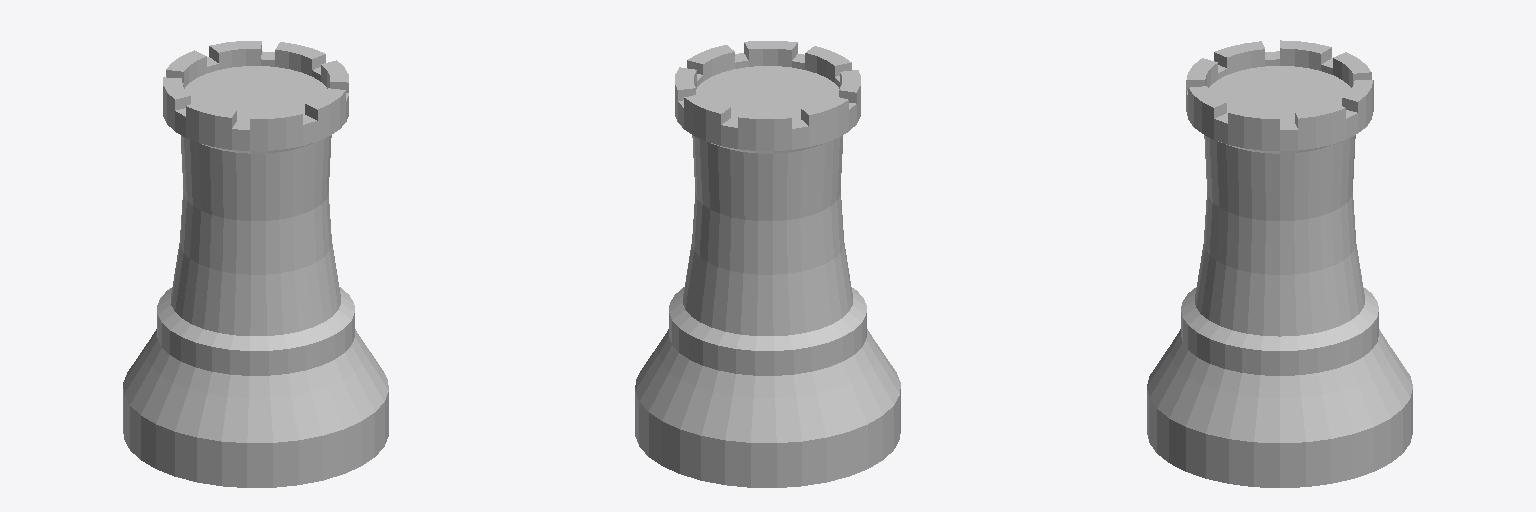
Rendered from rook.obj.
The picture shows the model from 3 angles: view 1: azimuth 30°, elevation 25°; view 2: azimuth 150°, elevation 25°; view 3: azimuth 270°, elevation 25°; orthographic projection.
Visible parts, largest first — view 1: rook; view 2: rook; view 3: rook.
Boxes of the visible parts, x1=… form: rook: x1=123, y1=41, x2=388, y2=487; rook: x1=635, y1=41, x2=900, y2=487; rook: x1=1147, y1=40, x2=1412, y2=487.
Bounding box in the file's own units: 0.703 × 1.02 × 0.703.